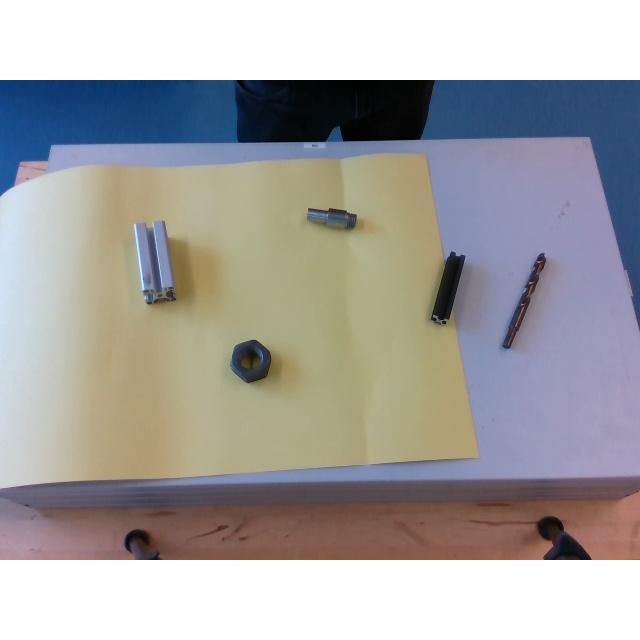Axis2: (306, 204, 358, 232)
Drill: (502, 252, 544, 346)
F20_20_B: (431, 254, 463, 322)
M30: (230, 340, 270, 380)
S40_40_G: (134, 220, 174, 302)
